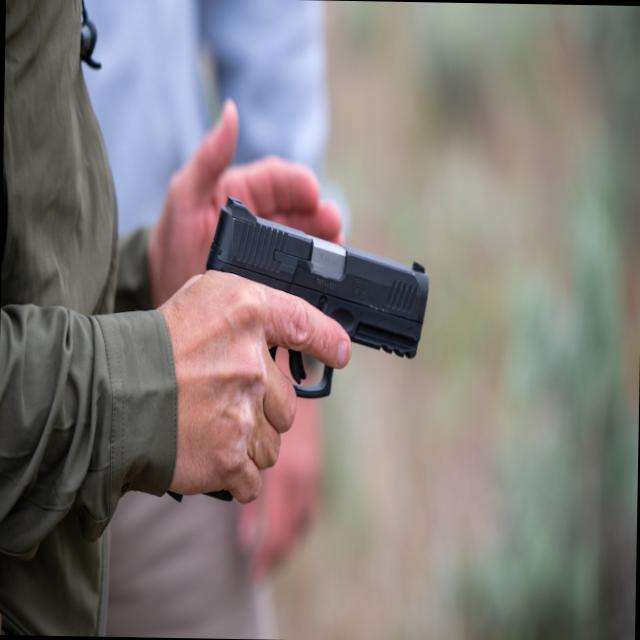Weapon: (188, 190, 436, 514)
